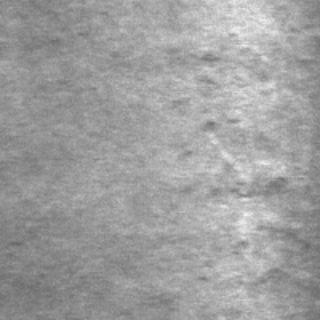rolled pit: (189, 48, 273, 195)
